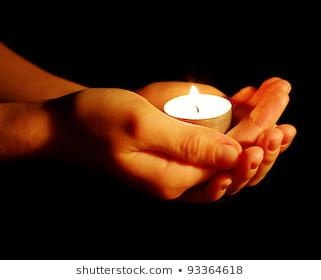fire: (185, 82, 202, 100)
